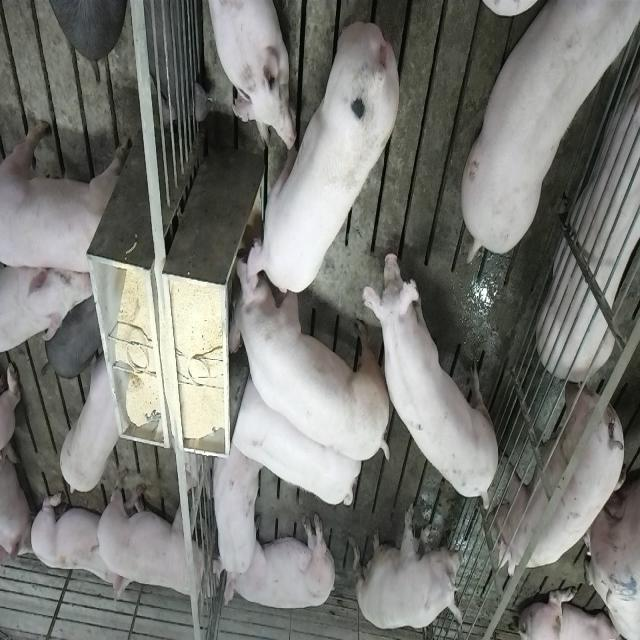Feeding: (241, 18, 402, 300), (222, 244, 388, 465)
Lateral_lying: (222, 512, 338, 612)
Sitting: (354, 502, 463, 632)
Standing: (464, 0, 640, 259), (366, 245, 504, 509), (498, 370, 630, 580), (1, 118, 130, 271), (229, 377, 362, 512), (94, 468, 215, 608), (56, 352, 125, 498), (0, 266, 94, 356), (44, 290, 104, 380)
Sternal_lying: (539, 34, 640, 380), (205, 0, 294, 152), (28, 486, 126, 606), (208, 441, 260, 591)
